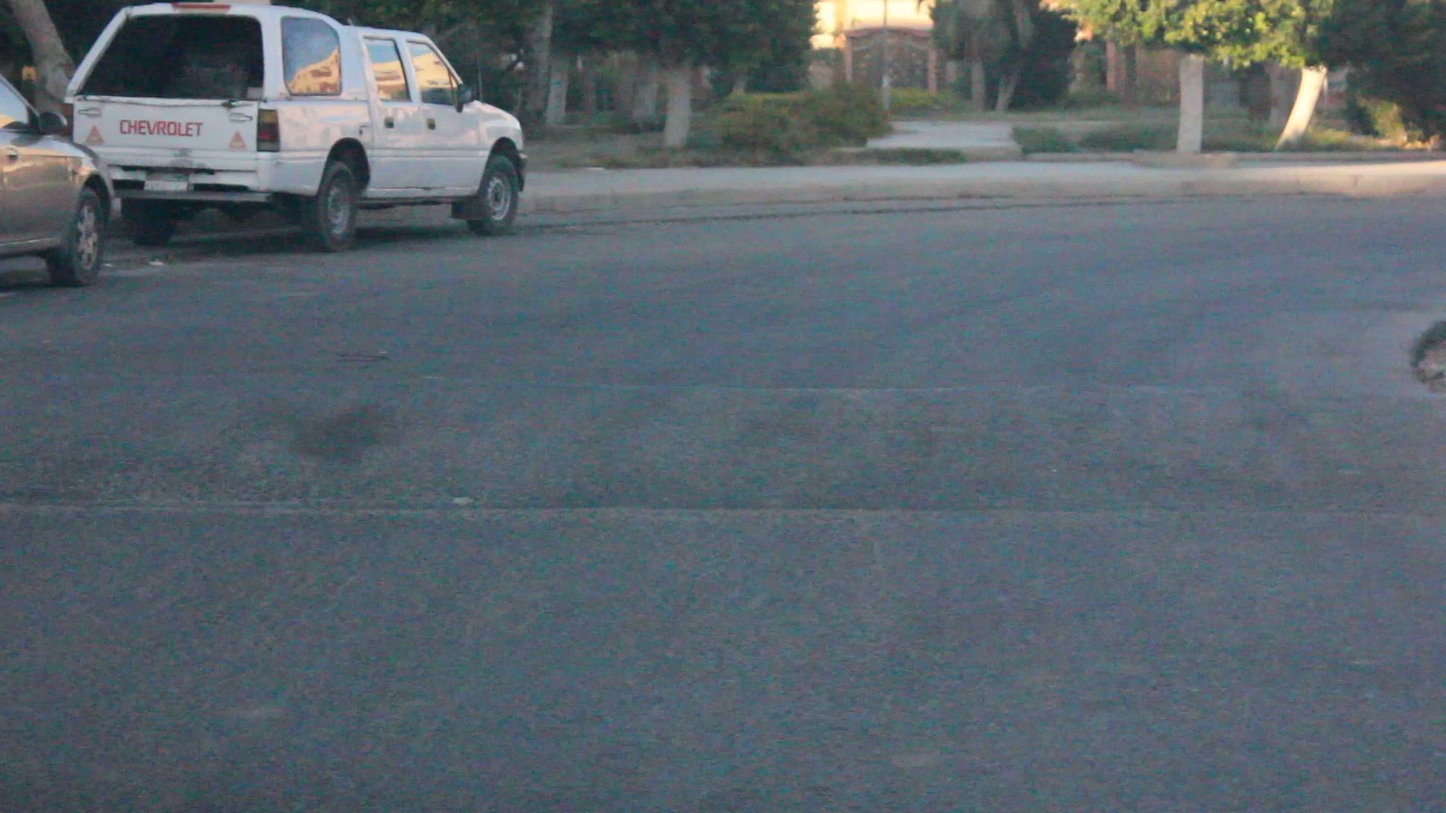Bump: (0, 339, 1446, 531)
